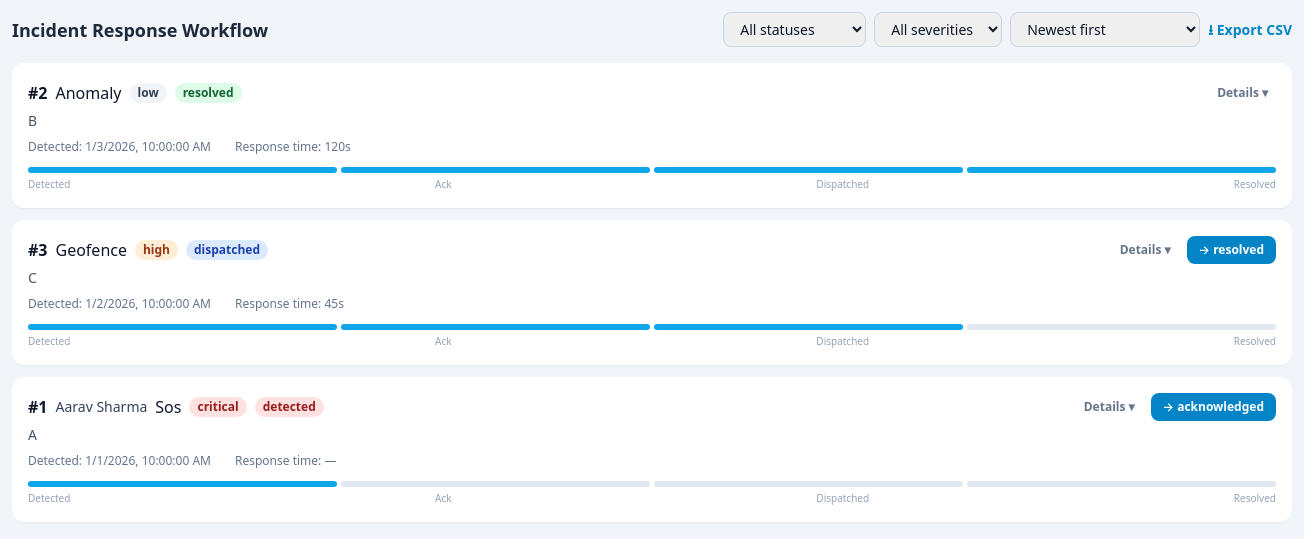
Test case: Incidents severity filter and sort › filters by severity client-side
This screenshot has width=1304, height=539.
expect the text "A" is shown: met, box top-left (28, 425), bottom-right (37, 444)
Select "High" in the 2nd dropdown at coordinates (938, 30), box top-left (874, 12), bottom-right (1002, 47)
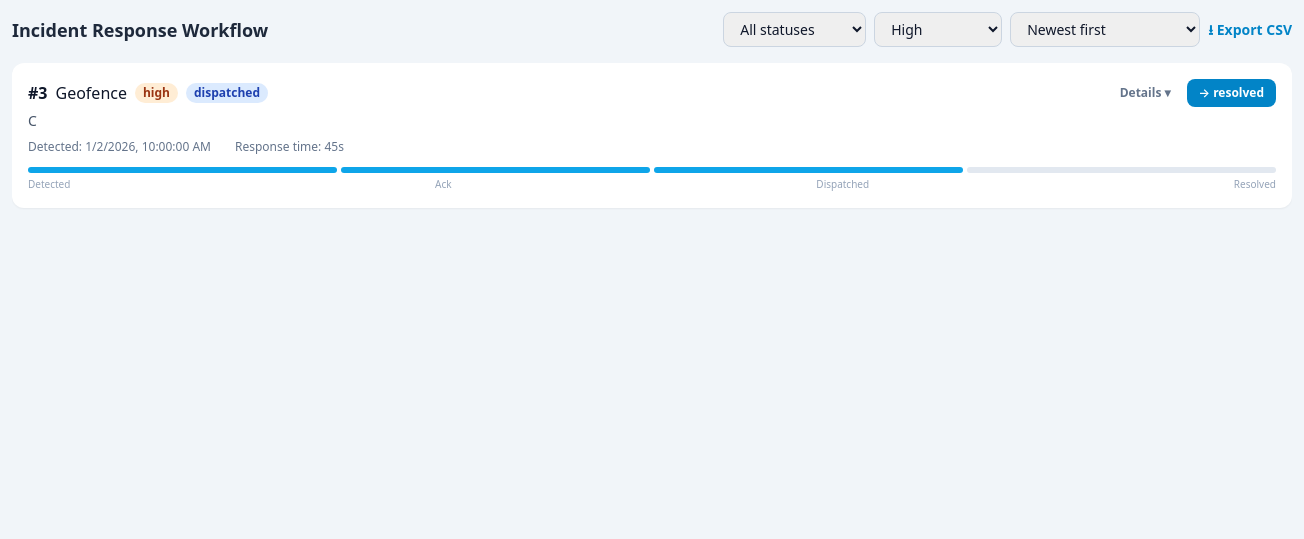
expect the text "C" is shown: met, box top-left (28, 111), bottom-right (37, 130)
expect the text "B" is gone: met
